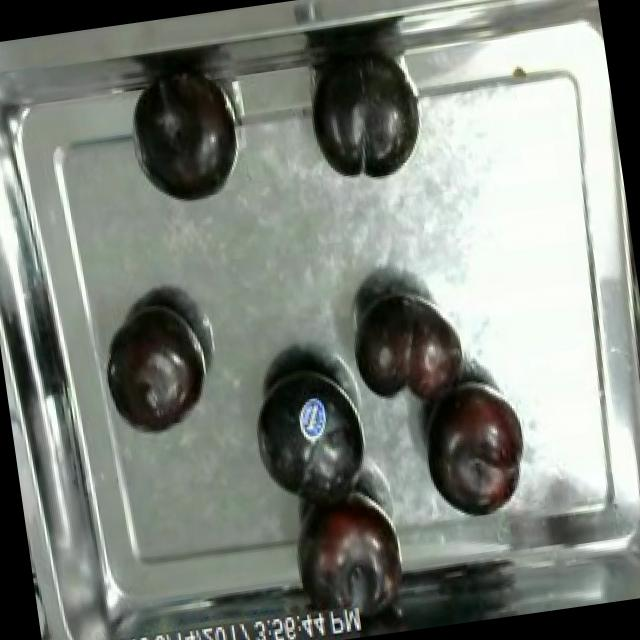Fruit: (238, 348, 378, 522), (120, 62, 253, 218), (300, 41, 434, 195), (412, 370, 537, 528), (336, 276, 474, 418), (95, 295, 216, 447)
